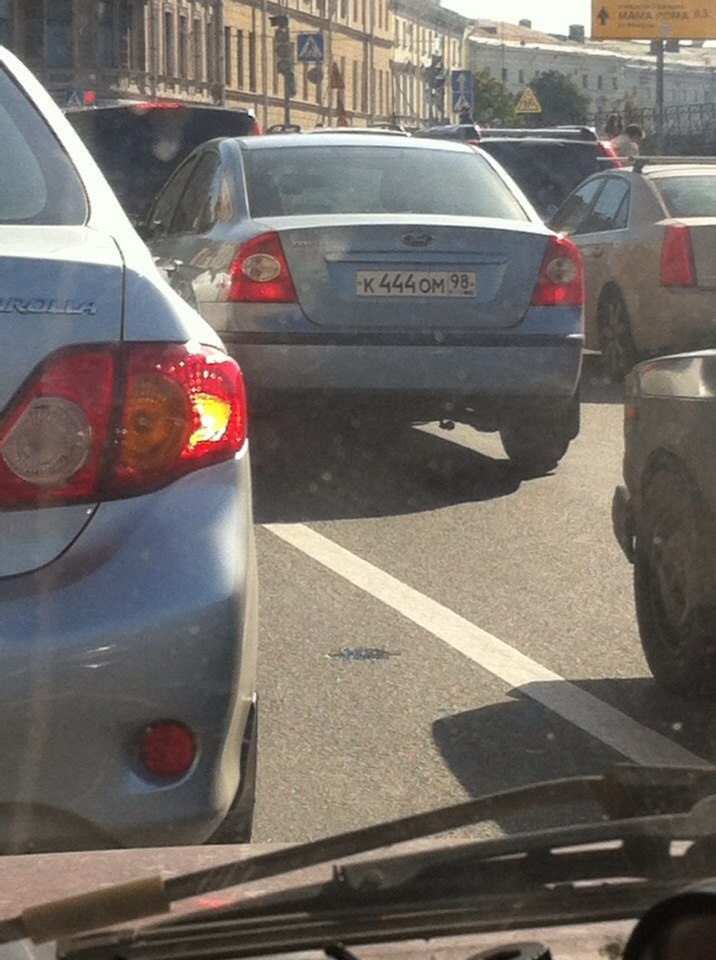car license plate: (353, 262, 481, 305)
